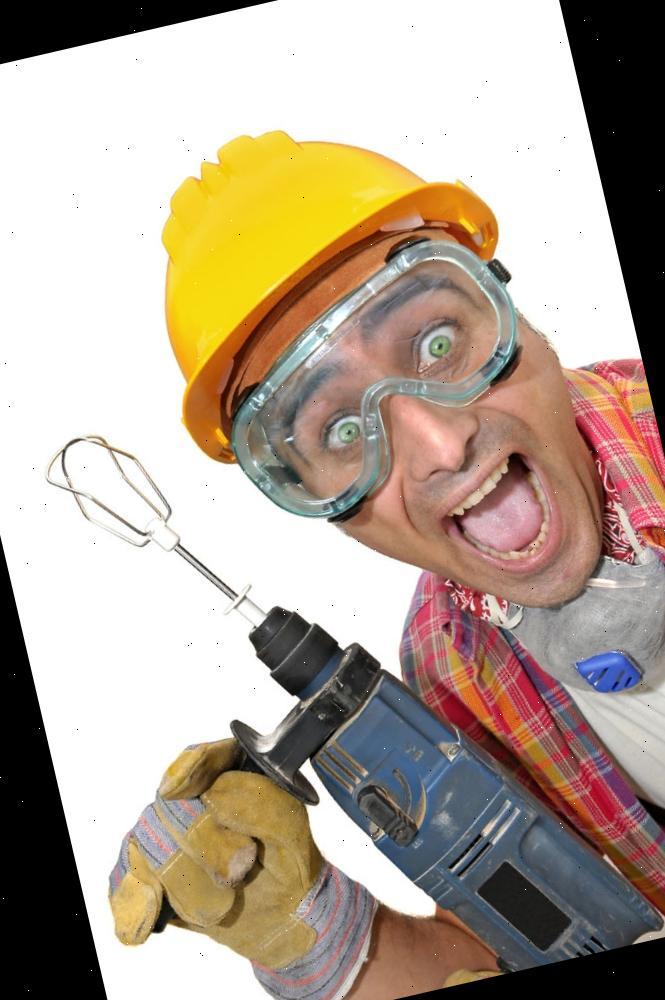helmet: (78, 90, 522, 451)
no_wear: (388, 520, 665, 978)
